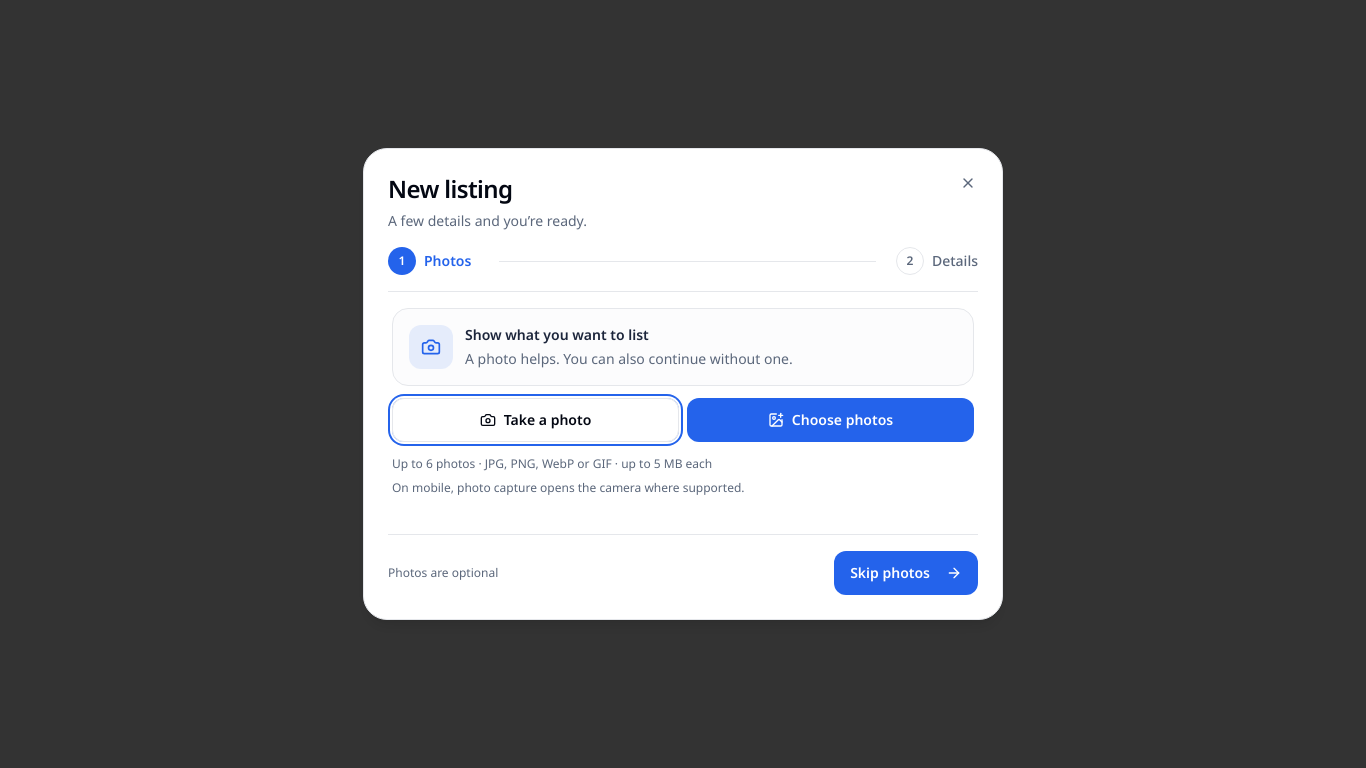
Test: reviewing an automatically extracted listing draft › hides and closes an in-memory form immediately when the authenticated account changes
What coordinates should you click on to do the following:
click the button "Skip photos"
I would click on:
 (906, 573)
Its box is [834,551,978,595].
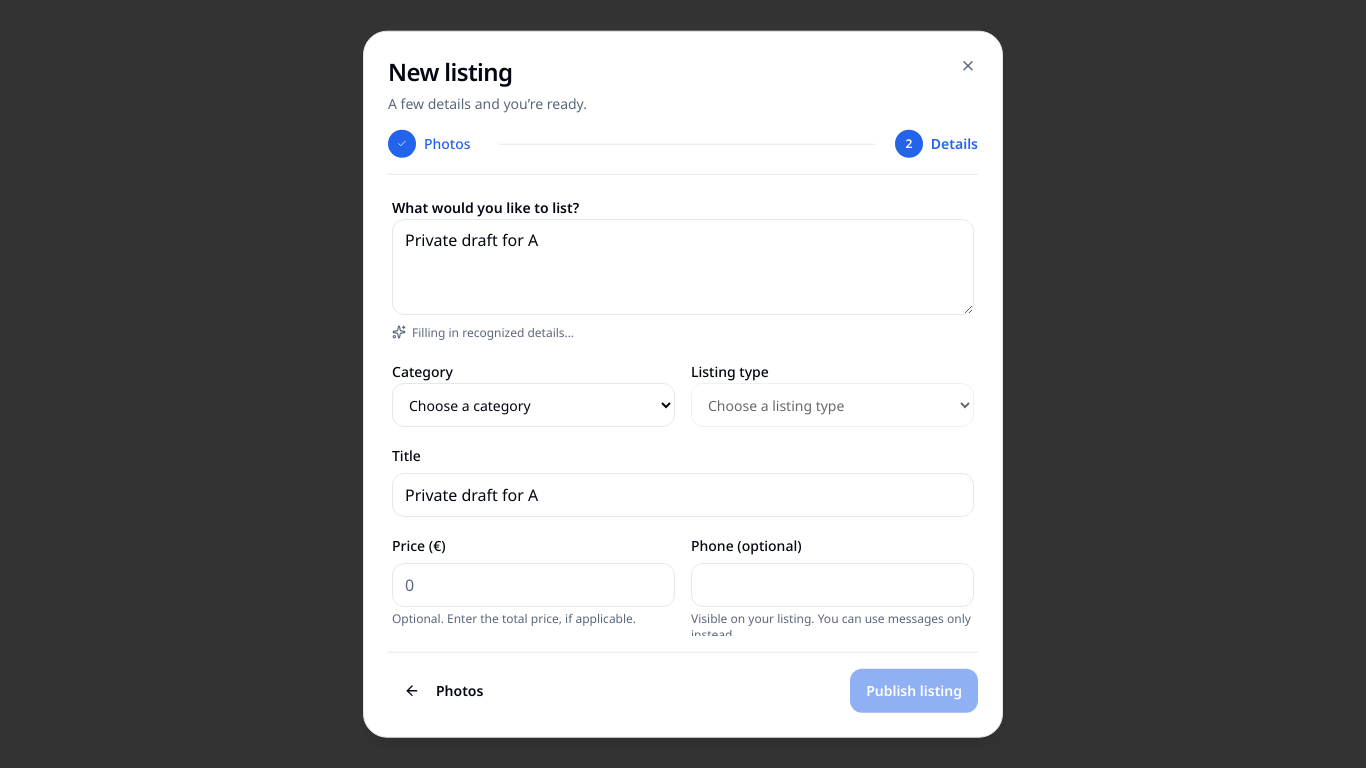
Expected: the text box labelled "What would you like to list?" holds "Private draft for A", [392,219,974,315]
